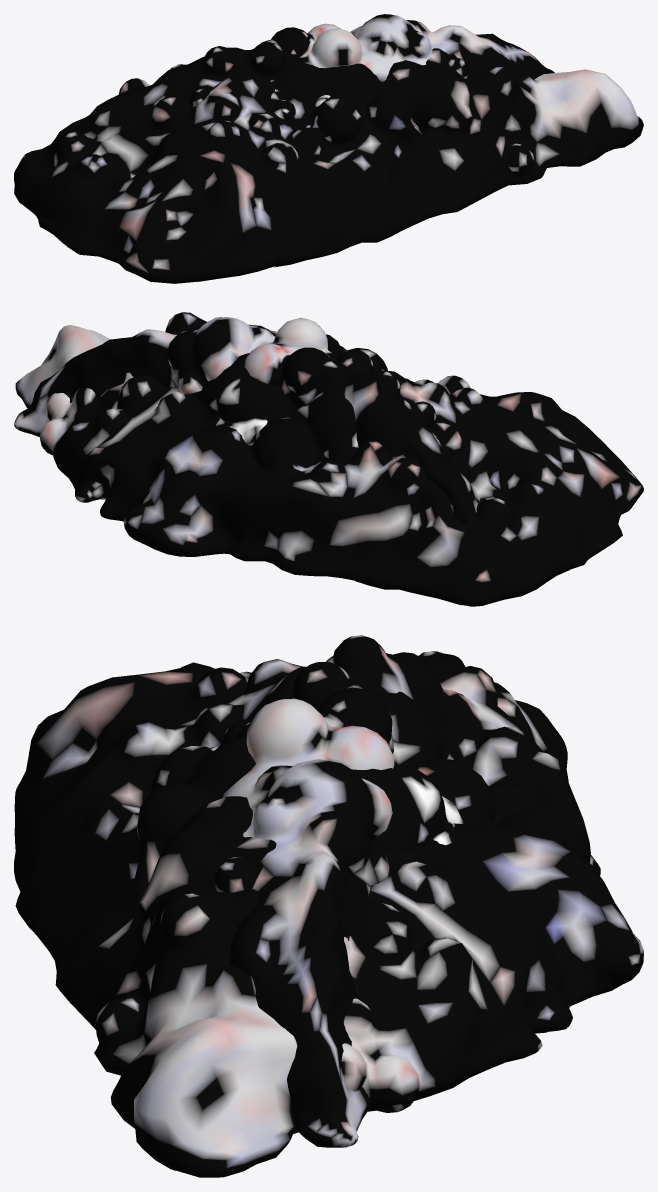
The model's file is gel.fbx.
3 views of the same model, one above another, from view 1: azimuth 30°, elevation 25°; view 2: azimuth 150°, elevation 25°; view 3: azimuth 270°, elevation 25° (orthographic). The views are drawn at different scales.
Visible parts, largest first — view 1: SM_Patch_F.mo, SM_Patch_E.mo, SM_Patch_D.mo; view 2: SM_Patch_F.mo, SM_Patch_E.mo, SM_Patch_D.mo; view 3: SM_Patch_F.mo, SM_Patch_E.mo, SM_Patch_D.mo.
Part boxes in pixels (x1,y1,x2,y2): SM_Patch_F.mo: (14,34,643,283); SM_Patch_E.mo: (45,14,554,152); SM_Patch_D.mo: (273,95,330,120); SM_Patch_F.mo: (15,312,643,606); SM_Patch_E.mo: (14,317,489,552); SM_Patch_D.mo: (216,376,277,445); SM_Patch_F.mo: (14,651,643,1177); SM_Patch_E.mo: (215,635,465,1147); SM_Patch_D.mo: (209,721,463,844).
Size of what is drawn, in the model's own units: 169 by 42.48 by 97.63.
